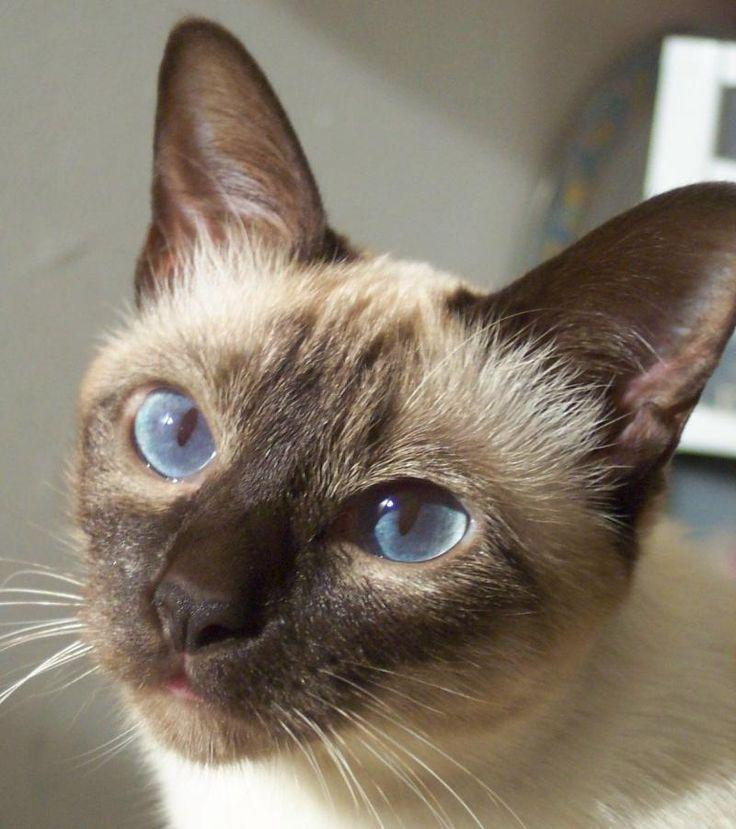siamese: (54, 9, 736, 796)
